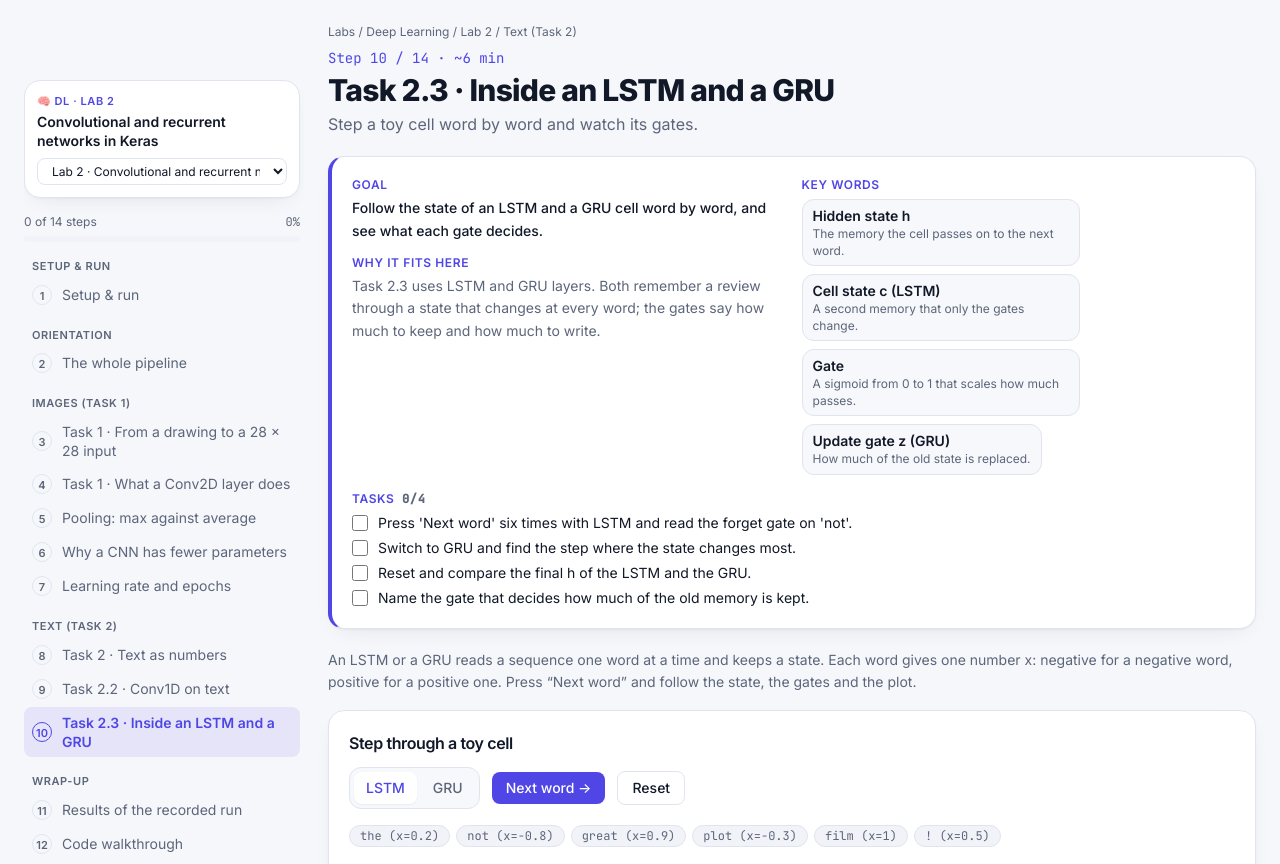
Lab 2 widgets compute and respond › the LSTM toy cell reaches the NumPy hidden state 0.531 after six words
Click the button "Next word →": (549, 788) [492,772,606,804]
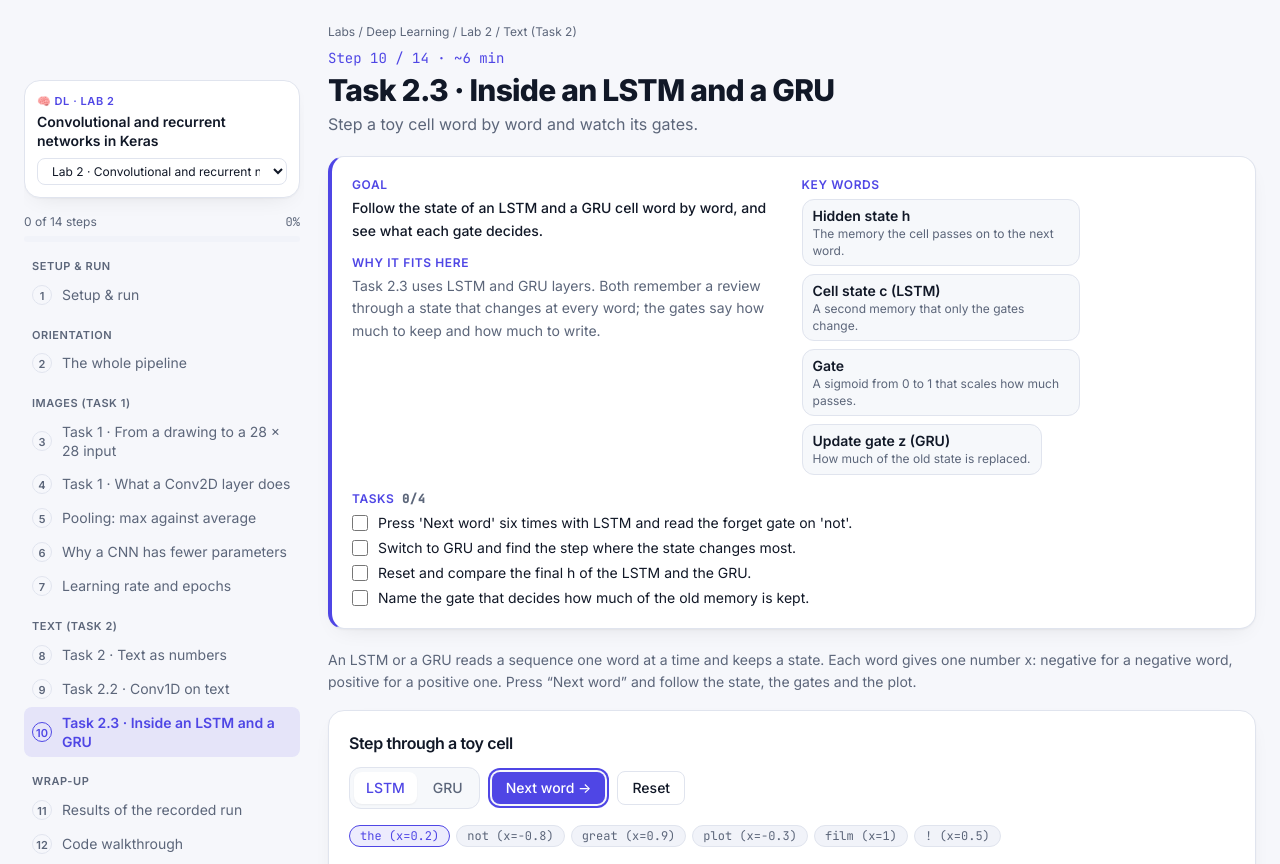
Click the button "Next word →": (549, 788) [492,772,606,804]
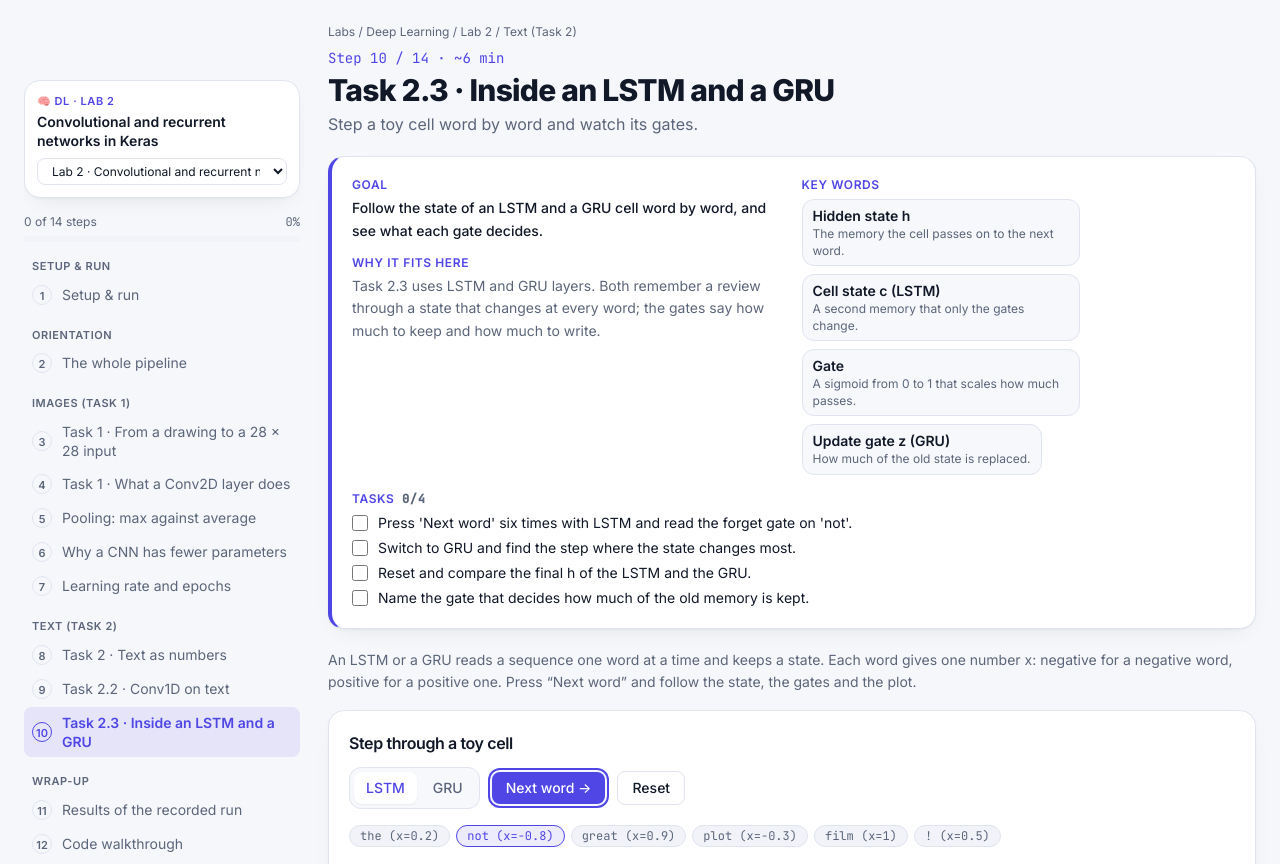
Click the button "Next word →": (549, 788) [492,772,606,804]
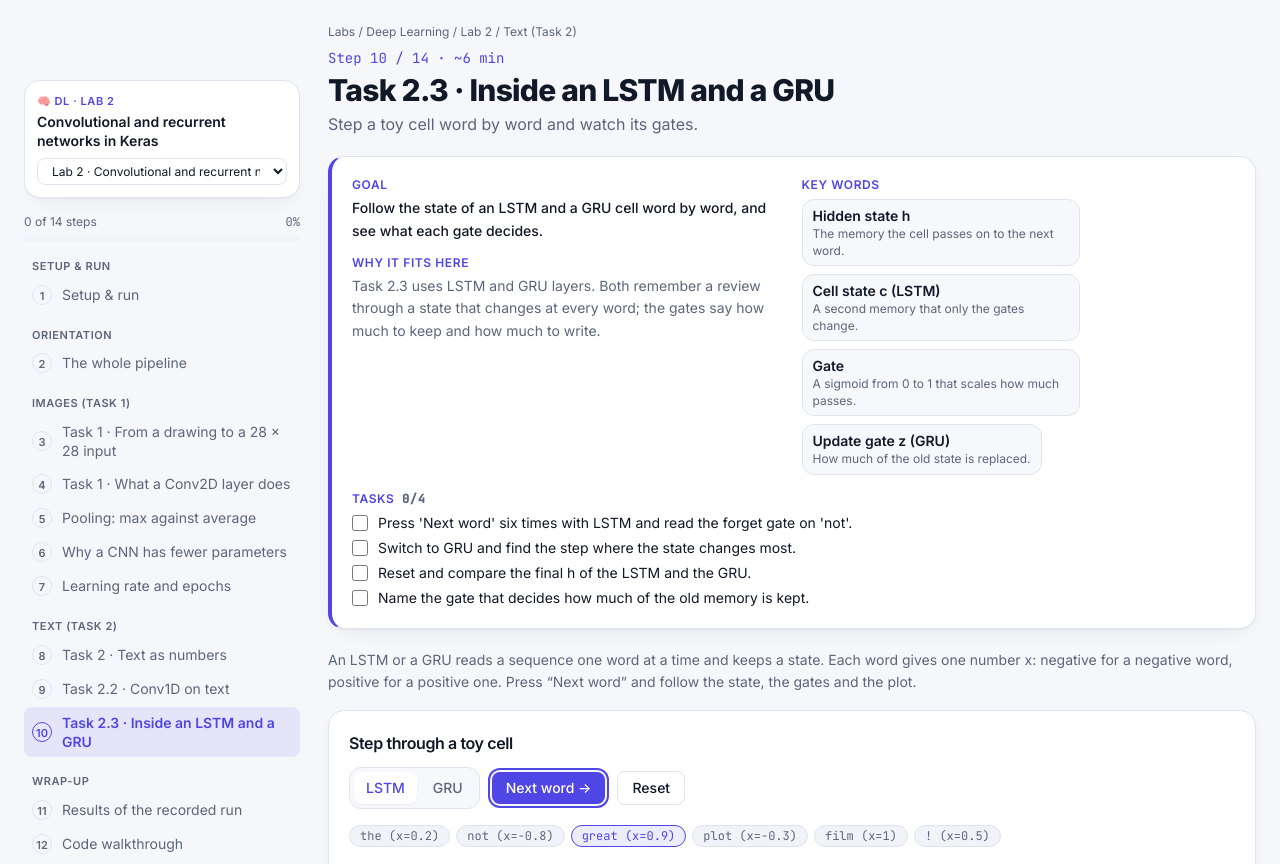
Click the button "Next word →": (549, 788) [492,772,606,804]
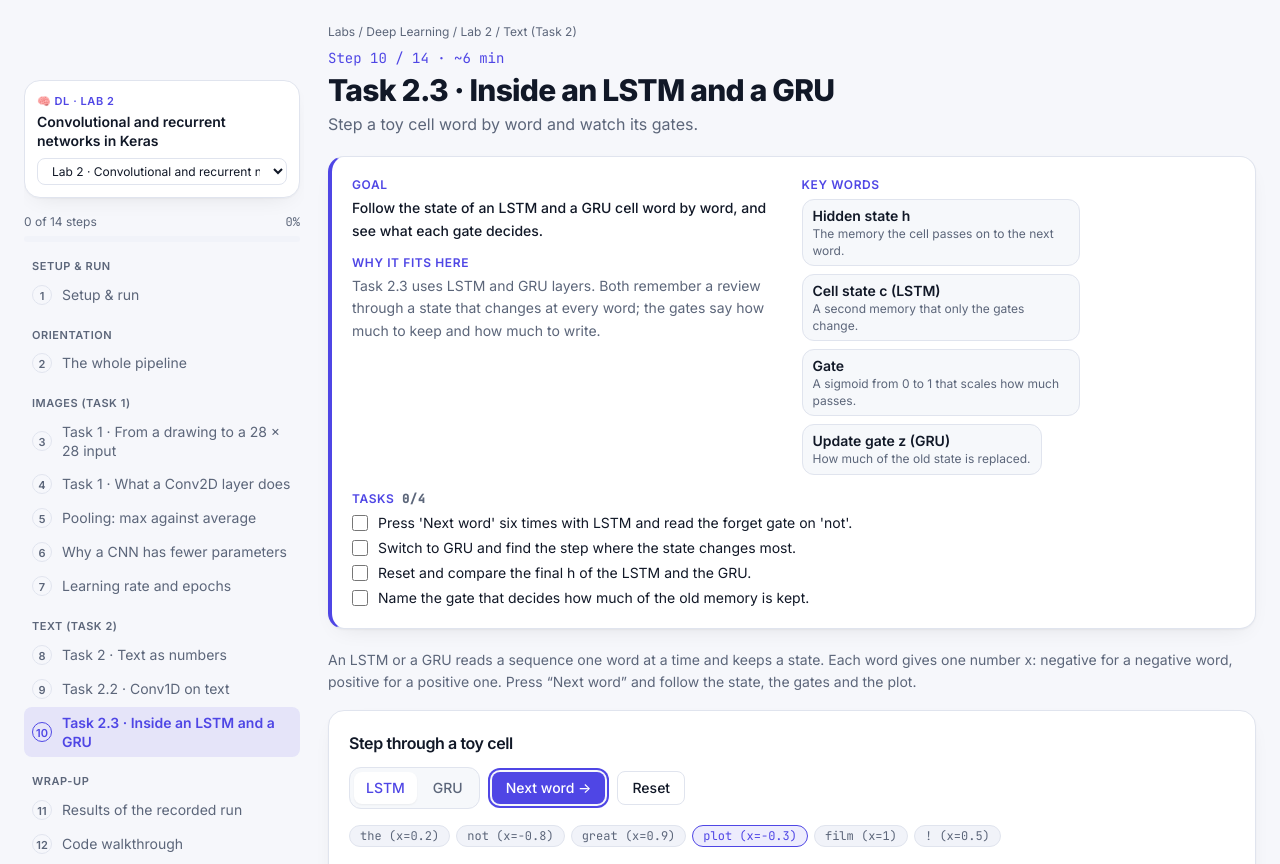
Click the button "Next word →": (549, 788) [492,772,606,804]
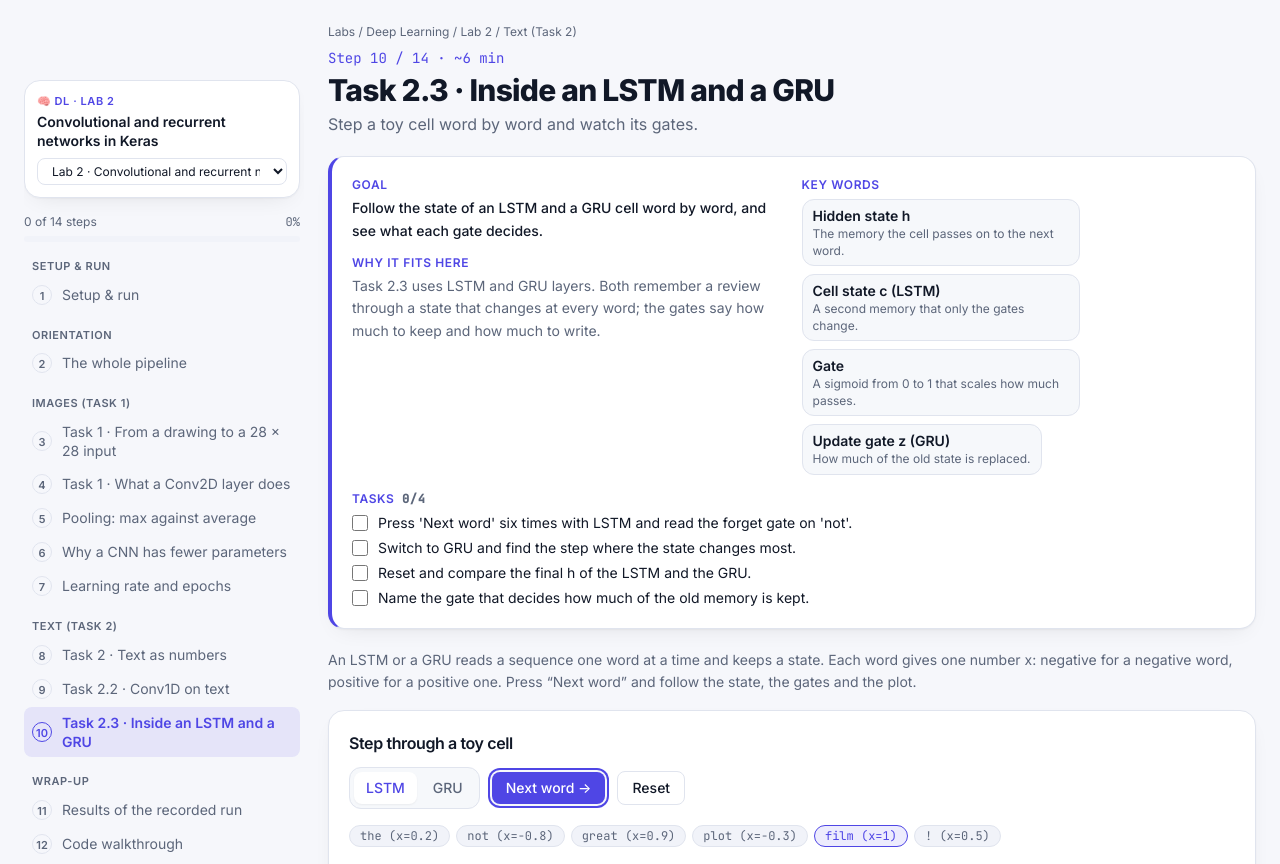
Click the button "Next word →": (549, 788) [492,772,606,804]
(page scrolled)
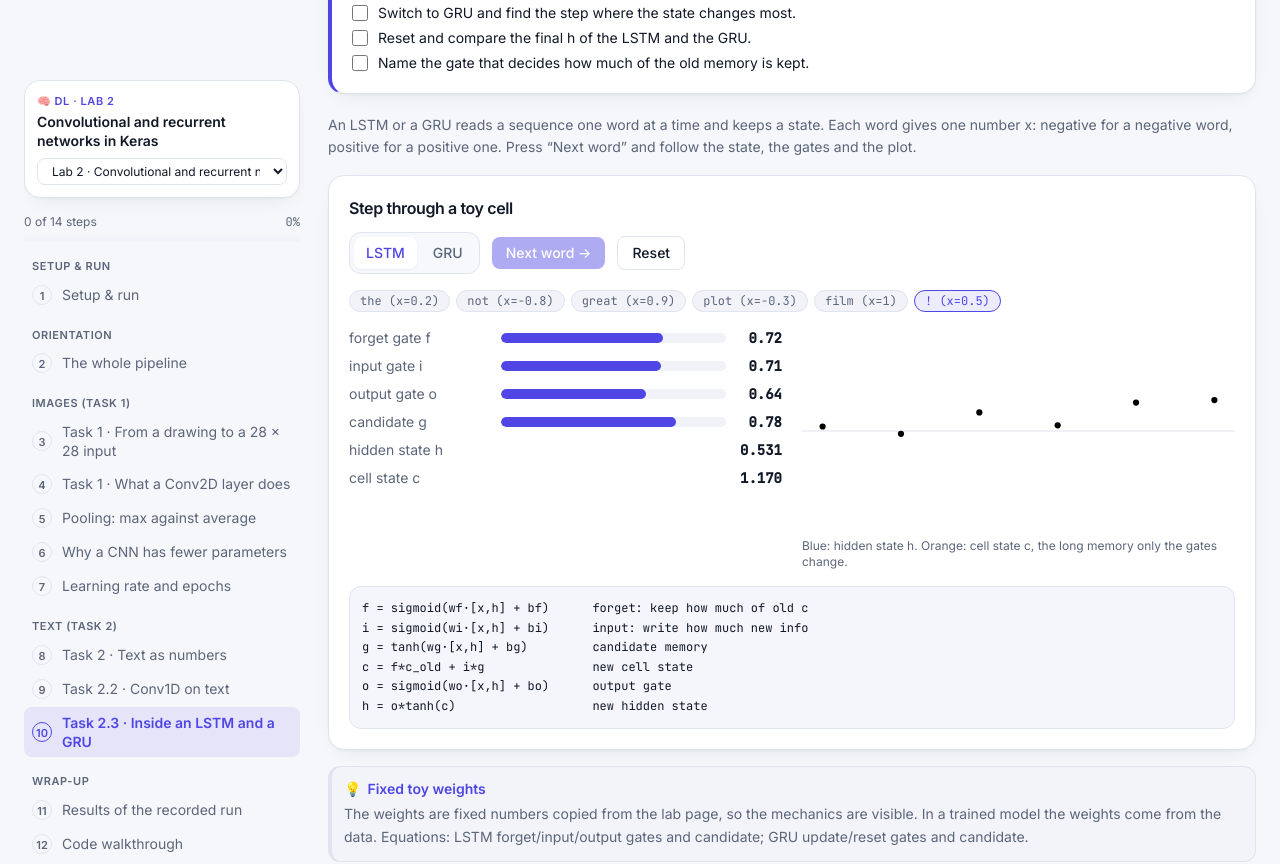
Check: the text "0.531" is shown, box [740,440,782,460]
